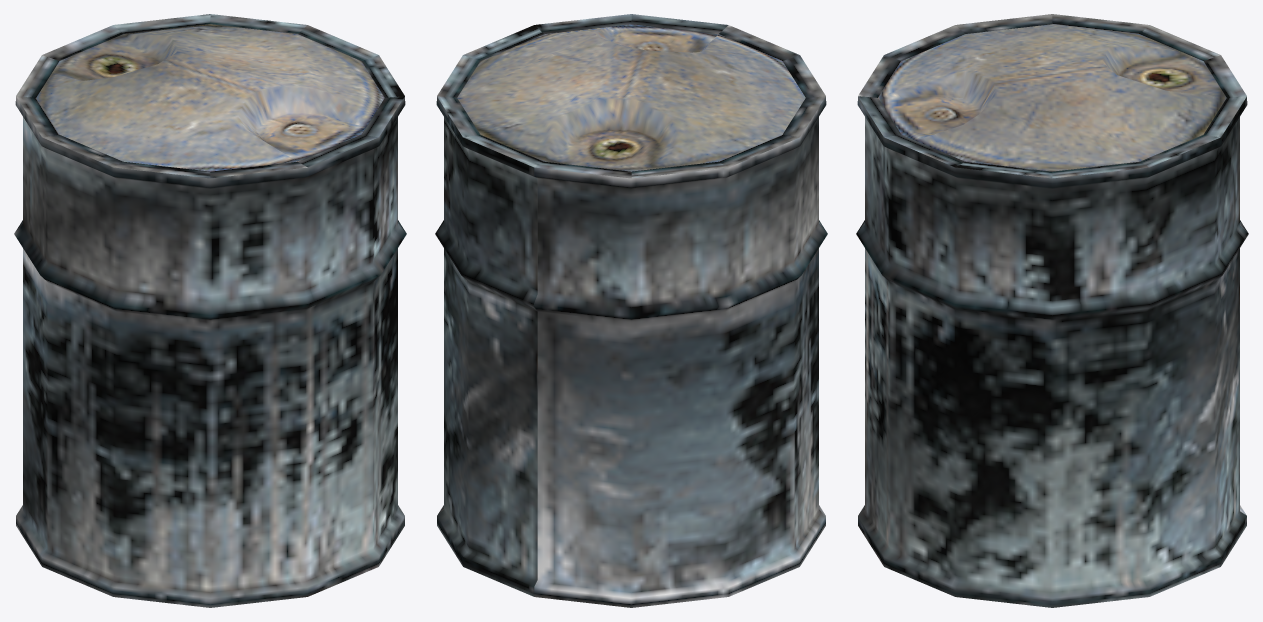
The model's file is Drums.FBX.
The picture shows the model from 3 angles, left to right: view 1: azimuth 30°, elevation 25°; view 2: azimuth 150°, elevation 25°; view 3: azimuth 270°, elevation 25°; orthographic projection.
Visible parts, largest first — view 1: Drums; view 2: Drums; view 3: Drums.
Part boxes in pixels (<box>): Drums: <box>14,14,406,607</box>; Drums: <box>435,14,827,607</box>; Drums: <box>856,14,1248,607</box>.
Bounding box in the file's own units: 84.54 × 107 × 84.54.
